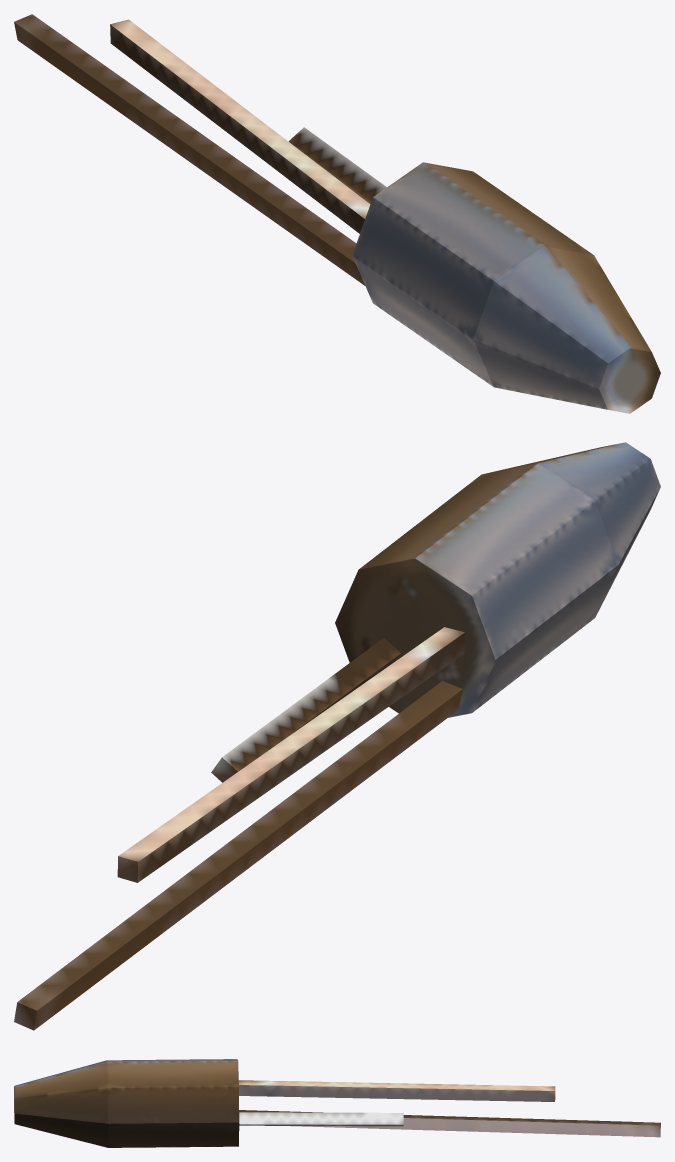
The picture shows the model from 3 angles, top to bottom: view 1: azimuth 30°, elevation 25°; view 2: azimuth 150°, elevation 25°; view 3: azimuth 270°, elevation 25°; orthographic projection. The views are drawn at different scales.
Parts seen in each view (by area): view 1: Bala_Cylinder.003, Estela_1_Cube.006, Estela_3_Cube.008, Estela_2_Cube.007; view 2: Bala_Cylinder.003, Estela_1_Cube.006, Estela_3_Cube.008, Estela_2_Cube.007; view 3: Bala_Cylinder.003, Estela_3_Cube.008, Estela_1_Cube.006, Estela_2_Cube.007.
Boxes of the visible parts, bbox=[...] form: Bala_Cylinder.003: bbox=[352, 162, 660, 413]; Estela_1_Cube.006: bbox=[14, 14, 365, 285]; Estela_3_Cube.008: bbox=[110, 19, 370, 233]; Estela_2_Cube.007: bbox=[288, 127, 386, 203]; Bala_Cylinder.003: bbox=[335, 442, 660, 717]; Estela_1_Cube.006: bbox=[14, 681, 462, 1030]; Estela_3_Cube.008: bbox=[117, 627, 464, 882]; Estela_2_Cube.007: bbox=[211, 638, 400, 782]; Bala_Cylinder.003: bbox=[14, 1059, 239, 1147]; Estela_3_Cube.008: bbox=[238, 1080, 555, 1101]; Estela_1_Cube.006: bbox=[239, 1110, 660, 1137]; Estela_2_Cube.007: bbox=[239, 1112, 403, 1126].
Size of what is drawn, in the model's own units: 0.2897 by 0.2805 by 1.95.
